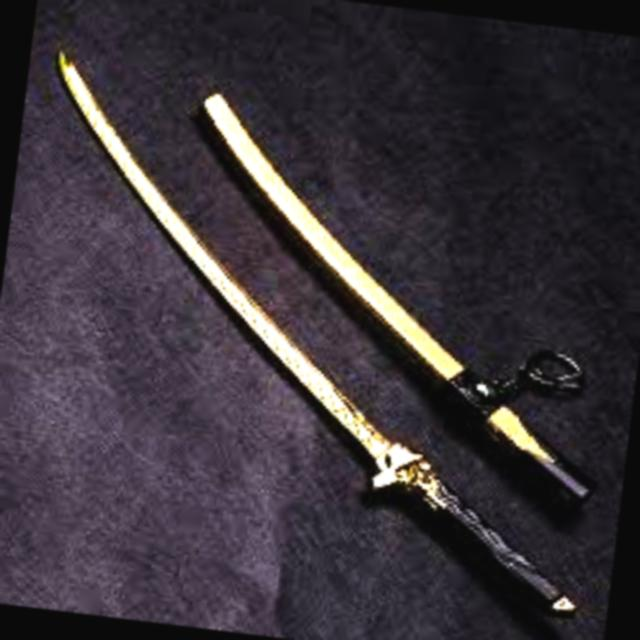long sword: (0, 39, 640, 619)
